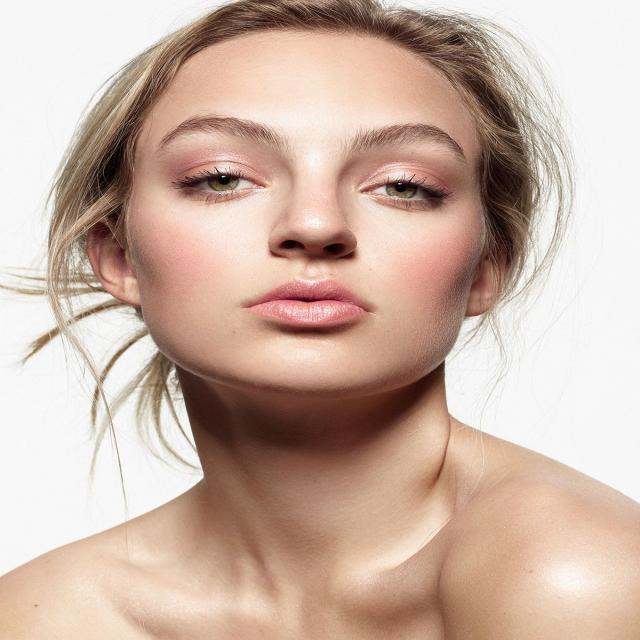earlobe: (108, 272, 143, 307), (466, 282, 497, 317)
eye: (178, 171, 274, 197), (356, 177, 444, 203)
nose: (269, 237, 359, 272)
wholeear: (85, 216, 143, 307), (466, 228, 508, 317)
